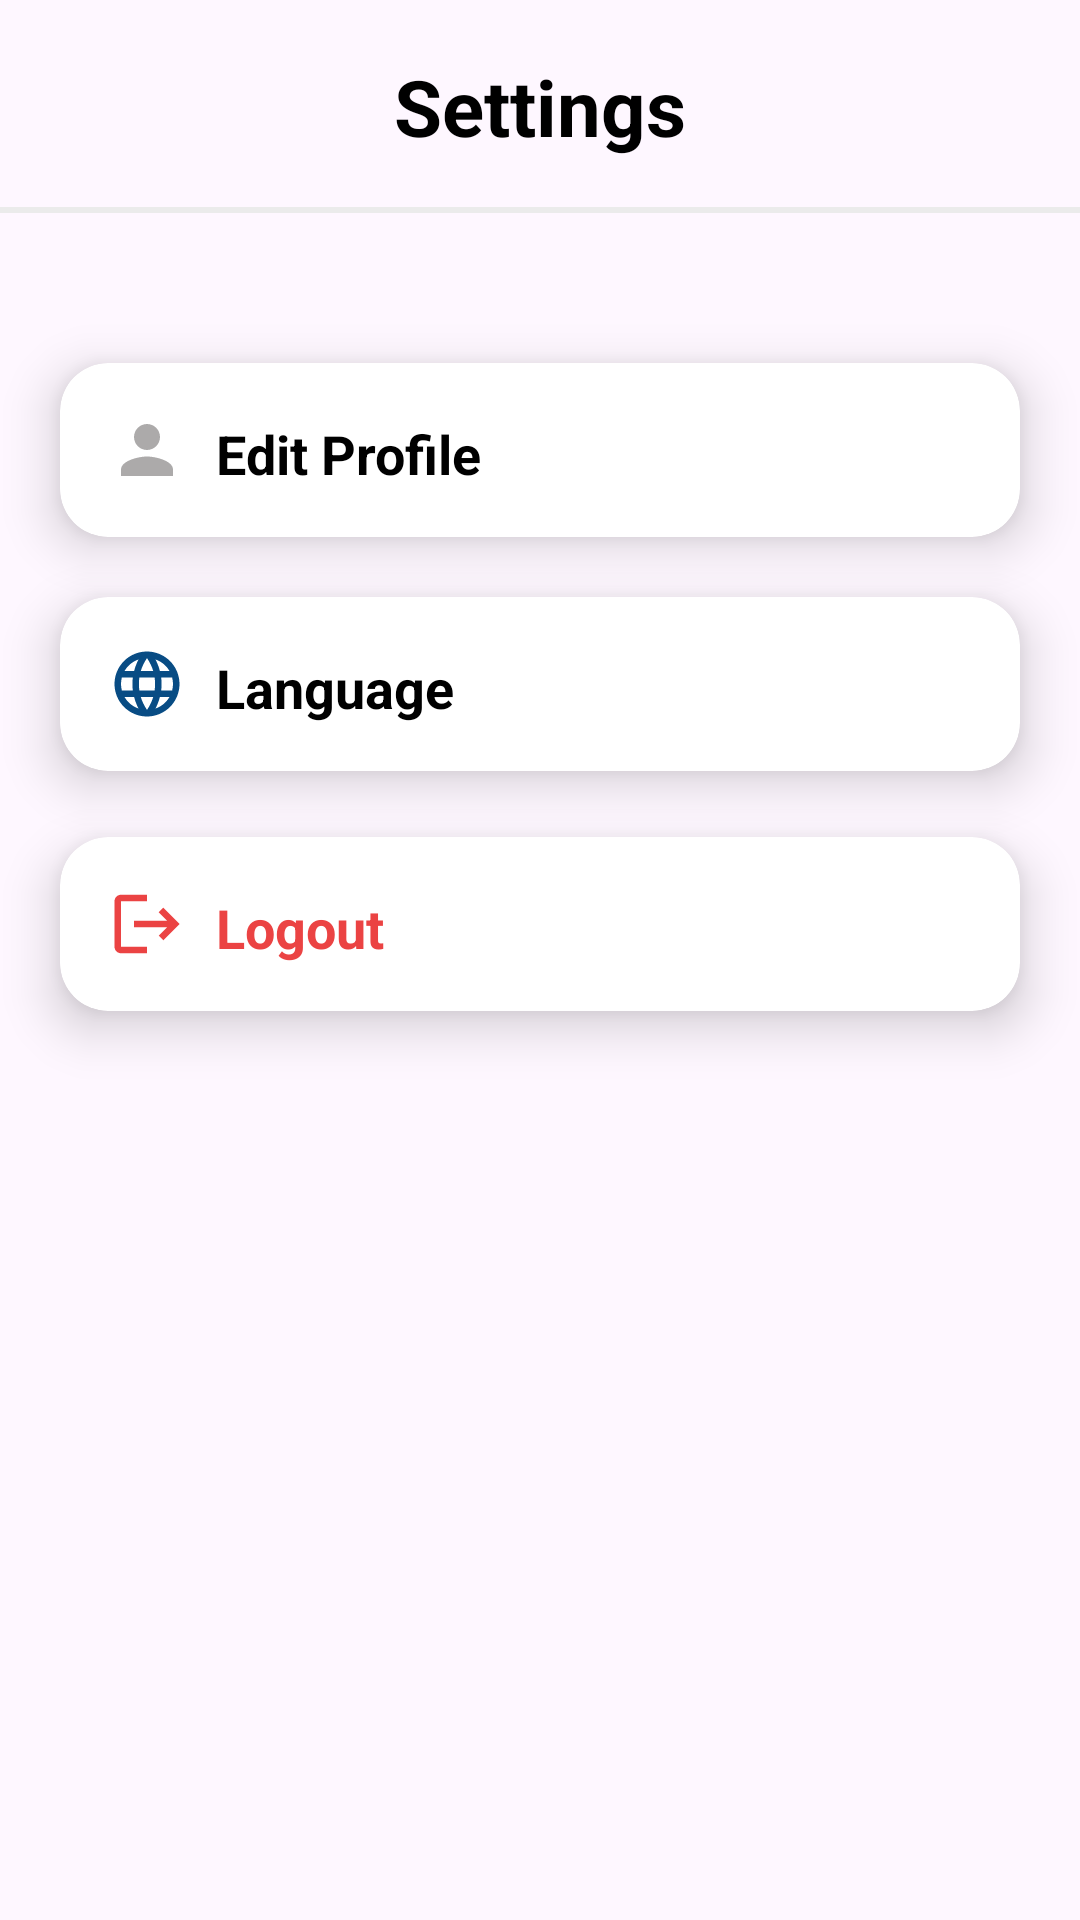

Named icons in this screenshot (1080 × 1920) and their centers, [x,y]:
person: [147,450]
